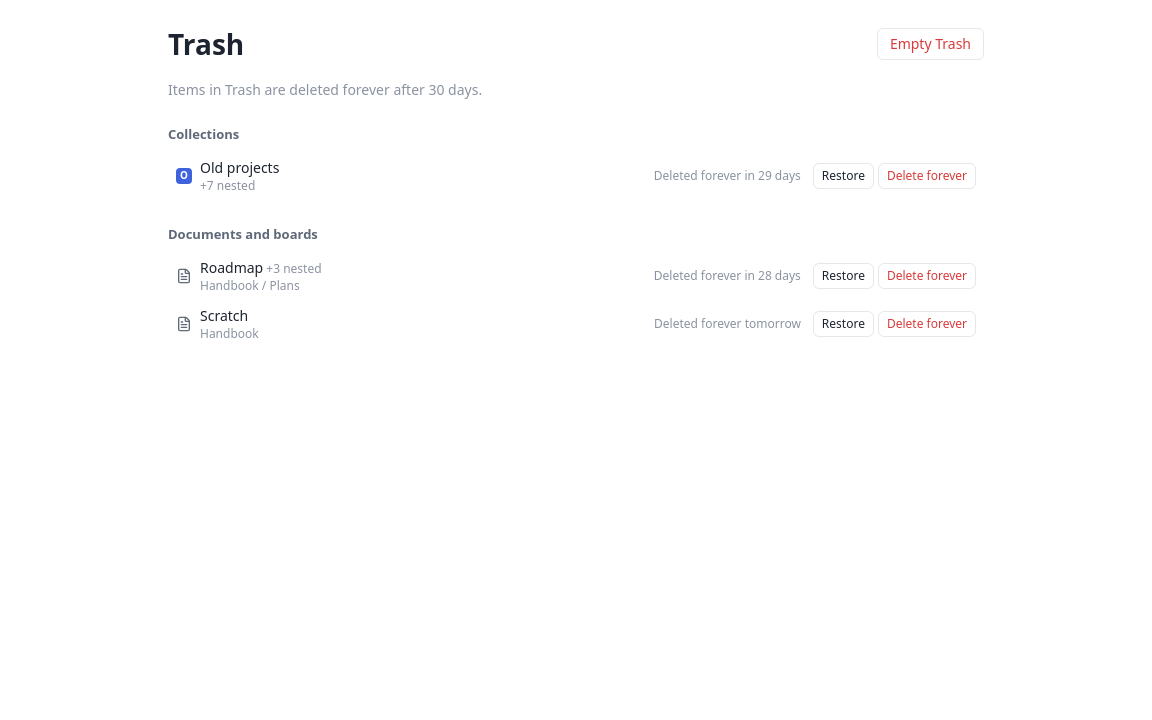
Test: Trash › restores an item
This screenshot has width=1152, height=720.
Click the button "Restore" in the row of "Roadmap": (843, 276) [813,263,874,289]
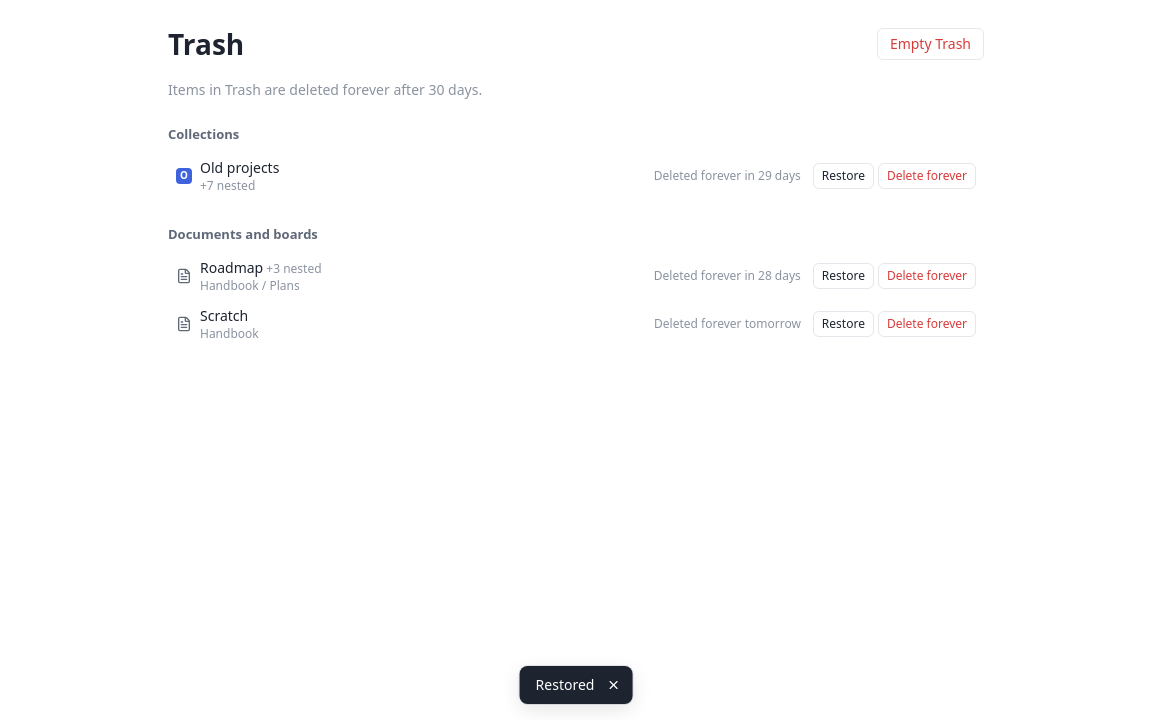
Expected: the message reads "Restored", [536,675,594,694]
